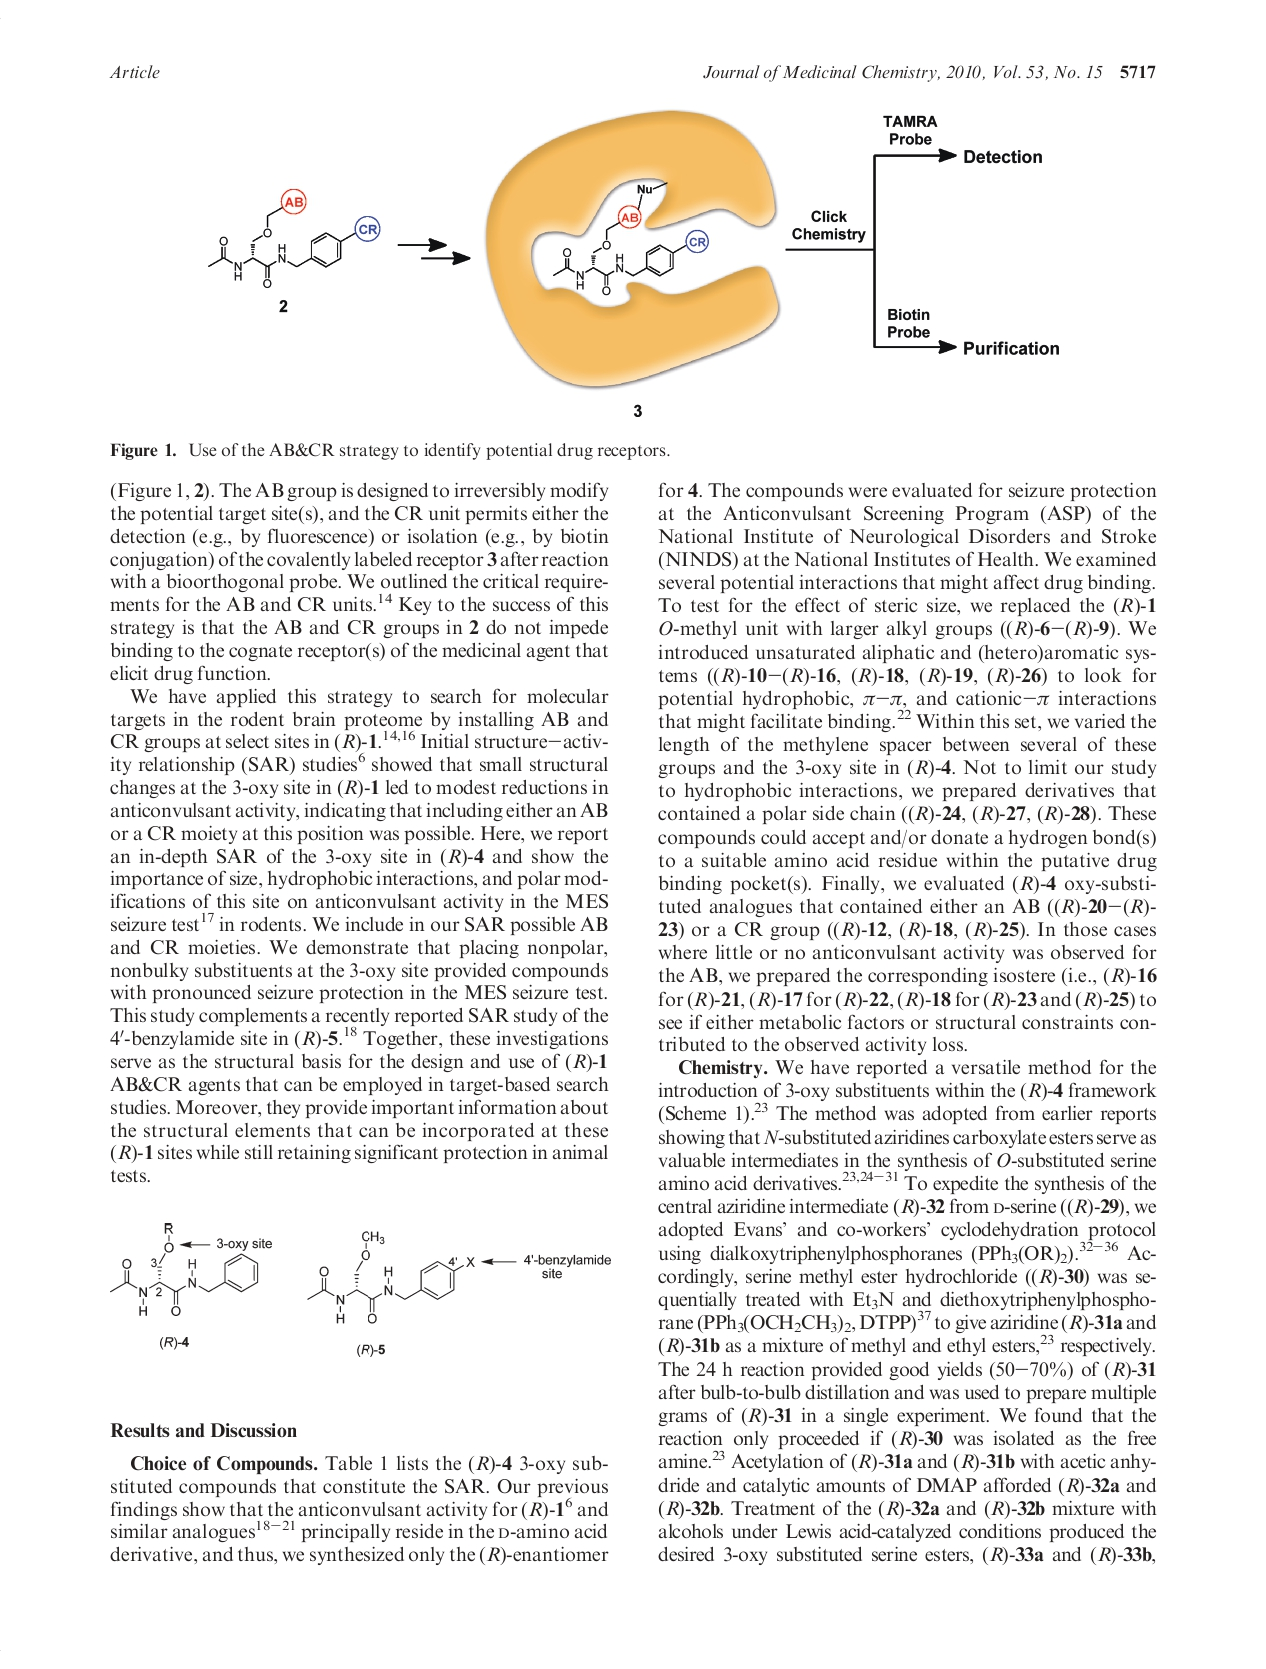exist_molecular: (203, 188, 384, 289), (305, 1231, 477, 1329), (106, 1218, 263, 1318)
